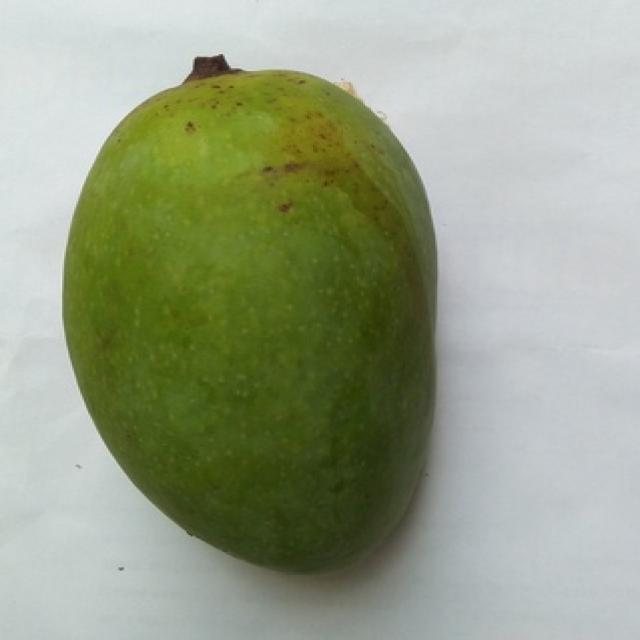Mango: (62, 56, 435, 570)
